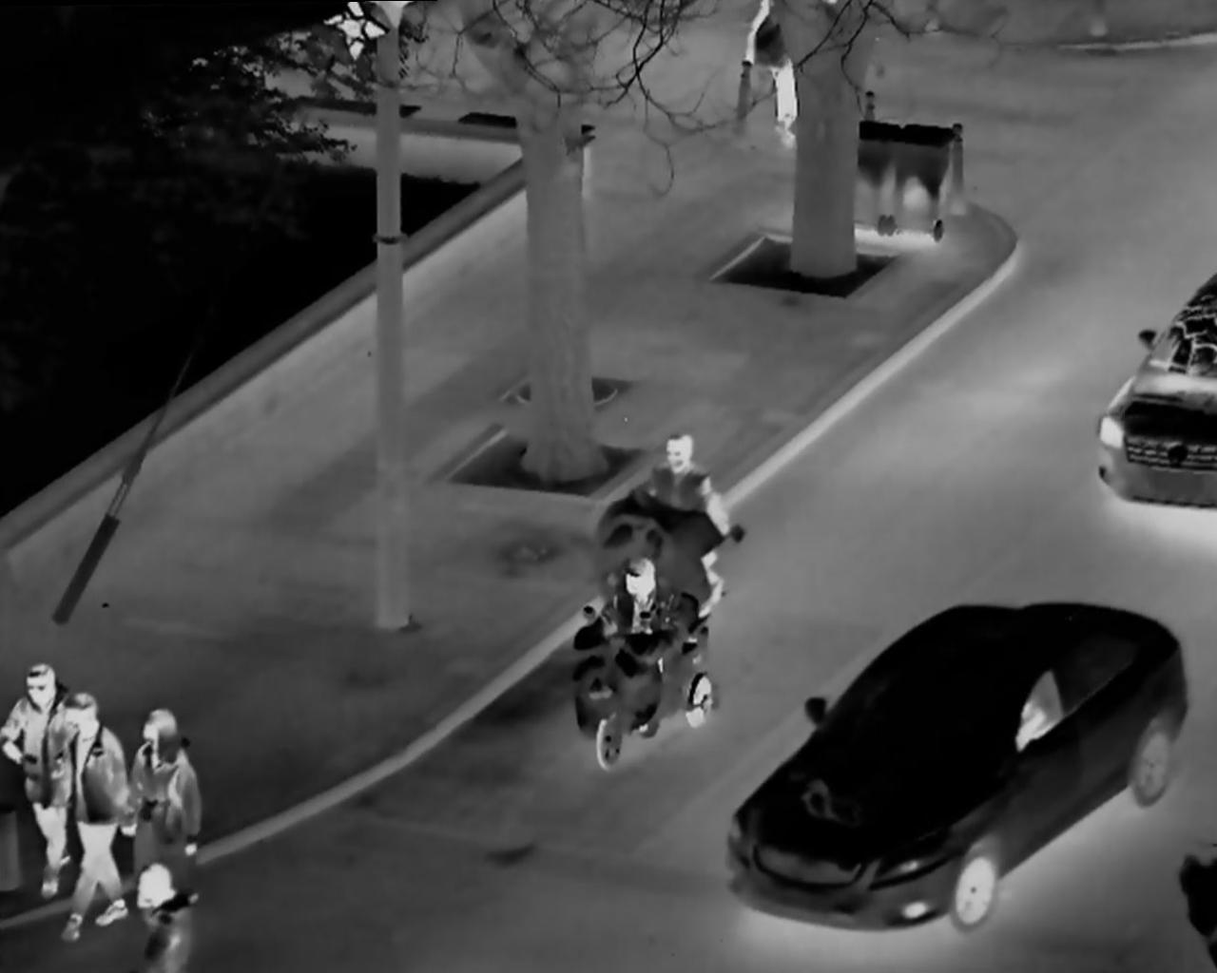person: (585, 556, 714, 758), (615, 414, 740, 604), (54, 684, 139, 937), (10, 654, 84, 895), (128, 701, 222, 888), (124, 857, 219, 973), (744, 3, 799, 143)
